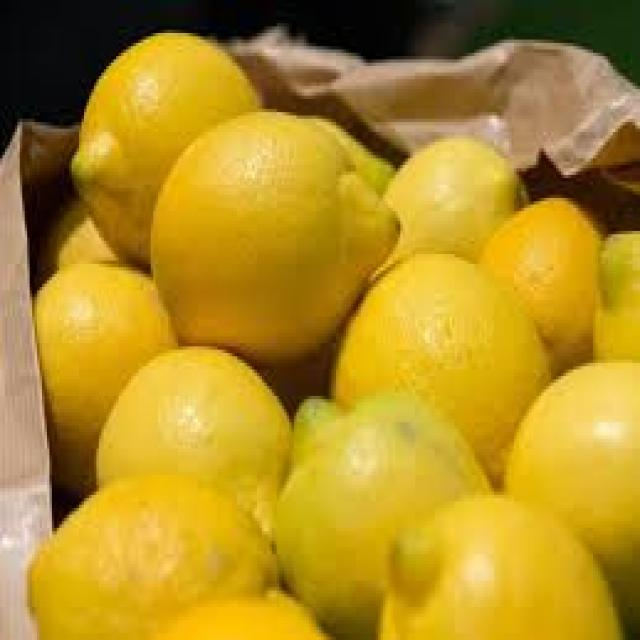organic waste: (146, 102, 398, 360), (270, 386, 494, 637), (324, 250, 554, 482), (67, 26, 257, 264), (27, 468, 277, 636), (94, 340, 294, 538), (499, 356, 638, 634), (376, 488, 622, 637), (32, 260, 171, 492), (363, 128, 524, 274), (477, 188, 595, 376), (136, 584, 341, 637), (32, 175, 126, 274), (302, 106, 396, 201), (593, 231, 638, 363)
